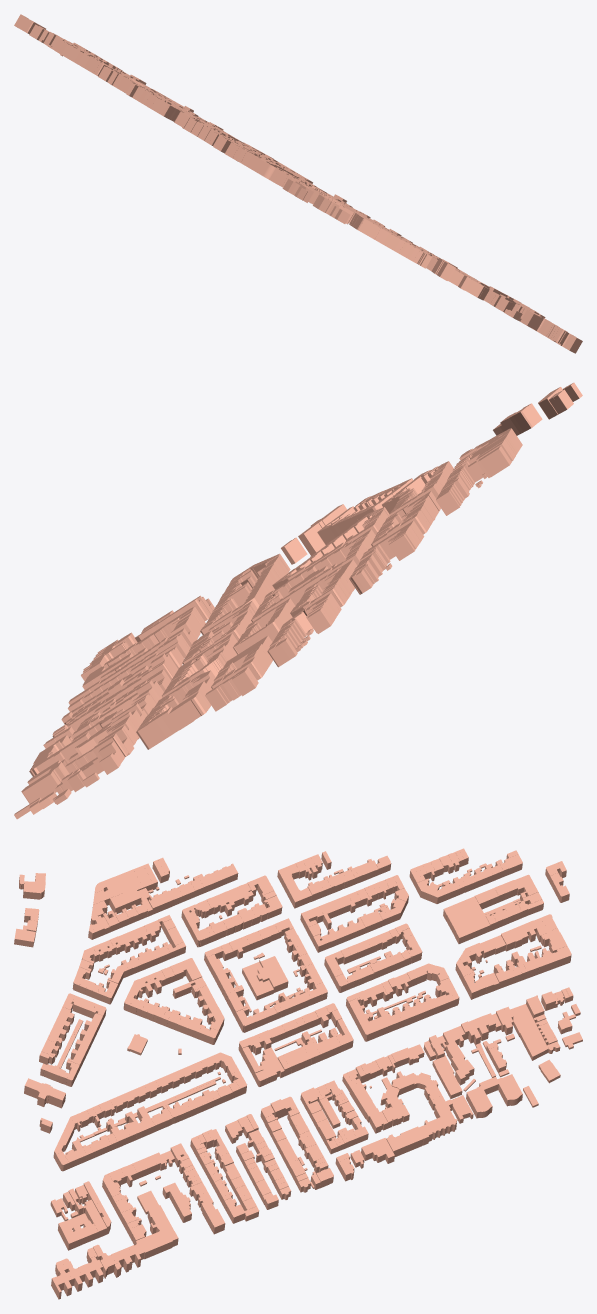
3 renders of one model, top to bottom at view 1: azimuth 30°, elevation 25°; view 2: azimuth 150°, elevation 25°; view 3: azimuth 270°, elevation 25°, orthographic. The views are drawn at different scales.
Size of the model in its own units: 470 by 339 by 624.
